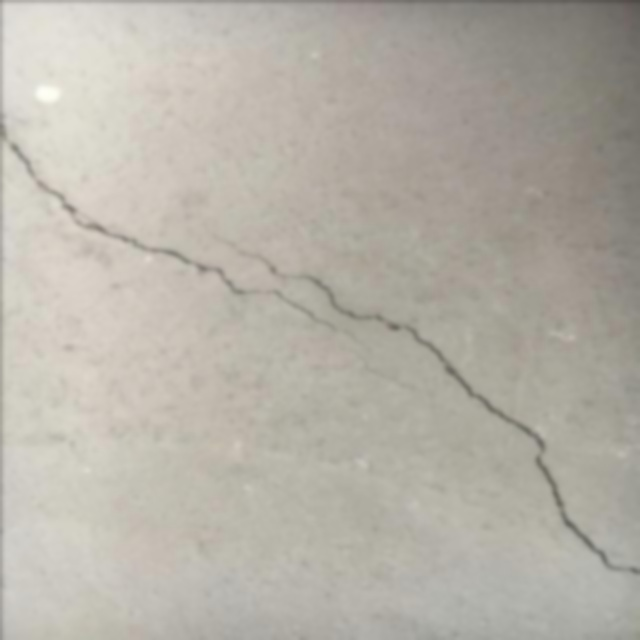SurfaceCrack: (0, 9, 639, 638)
